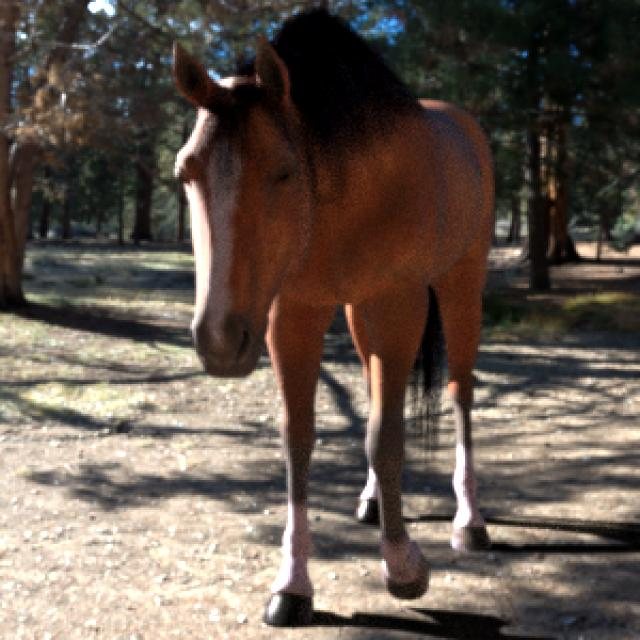horse: (174, 10, 492, 626)
